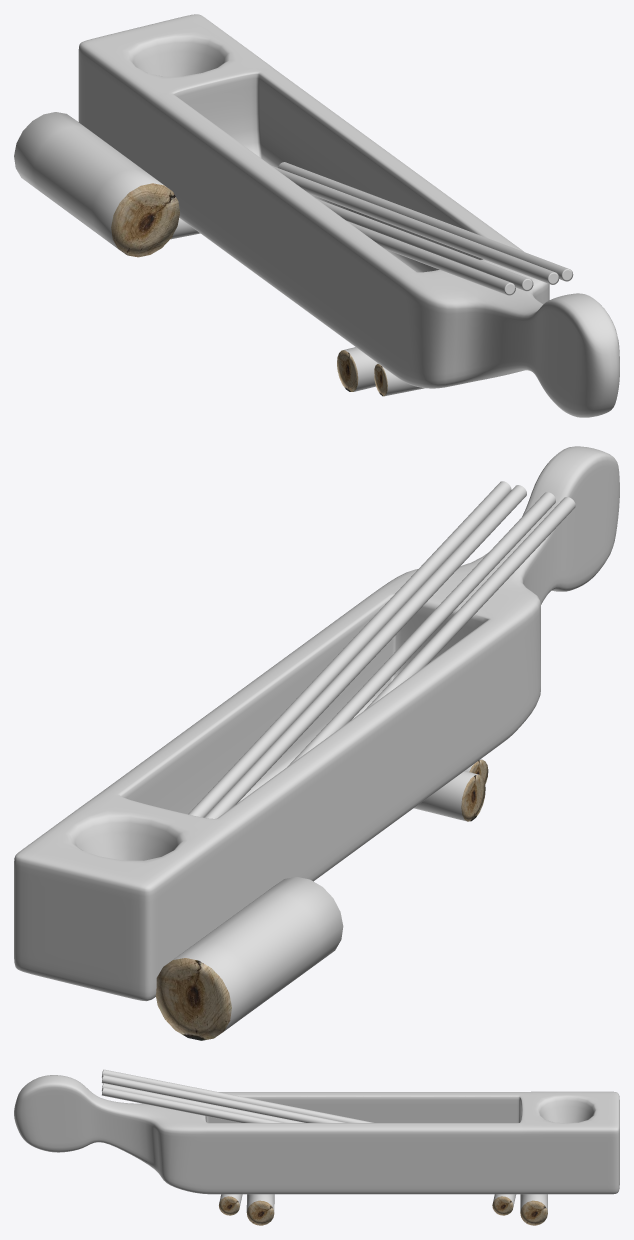
The model's file is tumbuk.fbx.
3 renders of one model, top to bottom at view 1: azimuth 30°, elevation 25°; view 2: azimuth 150°, elevation 25°; view 3: azimuth 270°, elevation 25°, orthographic. The views are drawn at different scales.
Visible parts, largest first — view 1: Cube, Cylinder.008, Cylinder.002, Cylinder.001, Cylinder.003, Cylinder, Cylinder.006, Cylinder.007; view 2: Cube, Cylinder.008, Cylinder.002, Cylinder.001, Cylinder.003, Cylinder, Cylinder.006; view 3: Cube, Cylinder.003, Cylinder, Cylinder.001, Cylinder.002, Cylinder.006, Cylinder.004, Cylinder.005, Cylinder.007.
Part boxes in pixels (x1,y1,x2,y2): Cube: (78, 14, 619, 417); Cylinder.008: (14, 112, 179, 257); Cylinder.002: (271, 165, 559, 284); Cylinder.001: (278, 162, 573, 281); Cylinder.003: (316, 198, 533, 291); Cylinder: (346, 220, 515, 295); Cylinder.006: (337, 347, 377, 391); Cylinder.007: (374, 363, 424, 396); Cube: (14, 446, 619, 1001); Cylinder.008: (155, 877, 343, 1040); Cylinder.002: (204, 485, 526, 818); Cylinder.001: (188, 481, 511, 817); Cylinder.003: (287, 492, 555, 766); Cylinder: (364, 497, 575, 710); Cylinder.006: (414, 771, 485, 821); Cube: (14, 1075, 619, 1194); Cylinder.003: (101, 1075, 346, 1122); Cylinder: (101, 1069, 373, 1122); Cylinder.001: (101, 1087, 283, 1122); Cylinder.002: (101, 1083, 305, 1122); Cylinder.006: (246, 1194, 274, 1225); Cylinder.004: (520, 1194, 547, 1225); Cylinder.005: (492, 1194, 516, 1215); Cylinder.007: (219, 1194, 242, 1215).
Size of the model in its own units: 474 by 408 by 1834.
